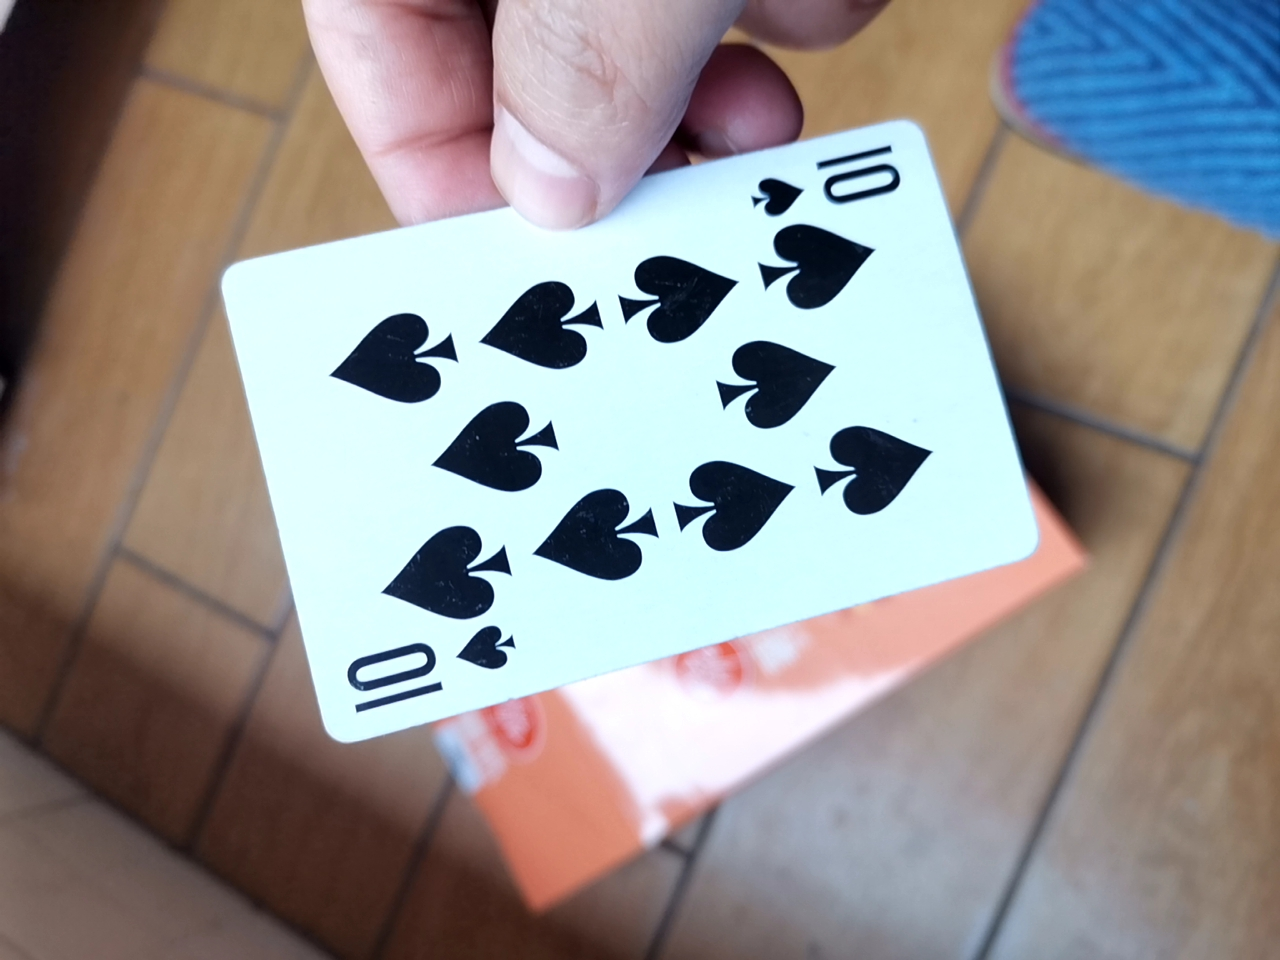ht 10: (209, 112, 1053, 825)
